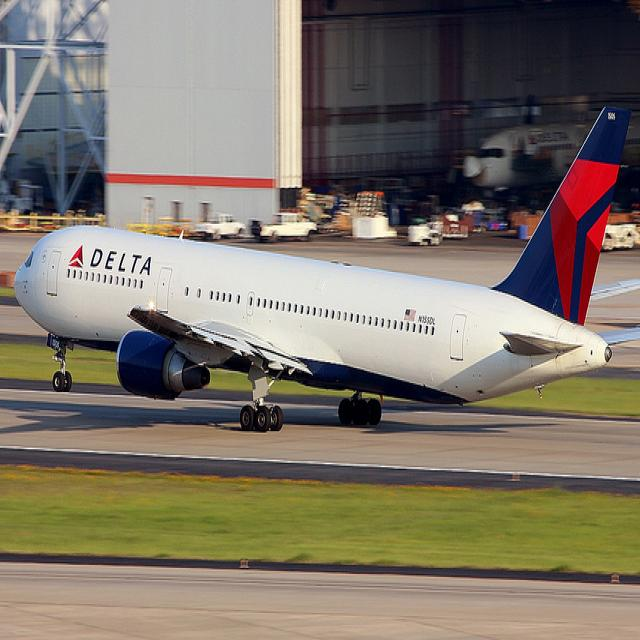Vehicle: (250, 213, 317, 242)
